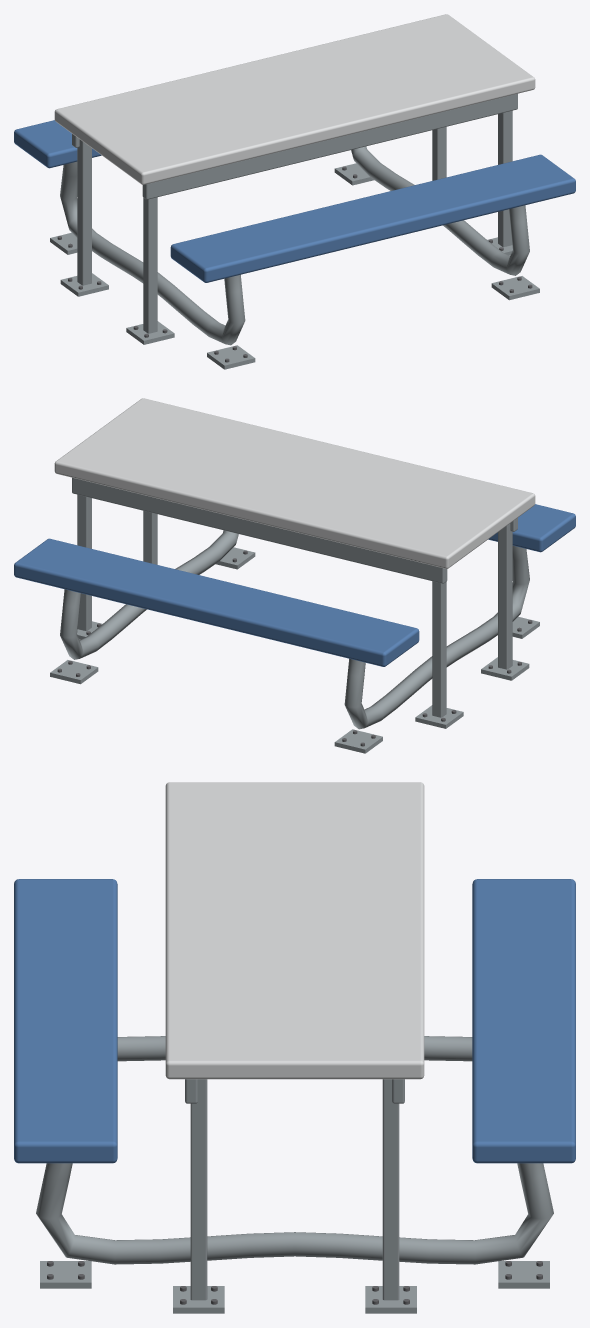
File: prison-complex-builder-canteen-table-bolted-2d41ae7e__25663.glb
The picture shows the model from 3 angles, top to bottom: view 1: azimuth 30°, elevation 25°; view 2: azimuth 150°, elevation 25°; view 3: azimuth 270°, elevation 25°; orthographic projection. The views are drawn at different scales.
Visible parts, largest first — view 1: canteen-table-bolted; view 2: canteen-table-bolted; view 3: canteen-table-bolted.
Part boxes in pixels (bbox=[...]): canteen-table-bolted: bbox=[14, 14, 575, 369]; canteen-table-bolted: bbox=[14, 398, 575, 753]; canteen-table-bolted: bbox=[14, 782, 575, 1313].
Bounding box in the file's own units: 1.8 × 0.76 × 1.52.
